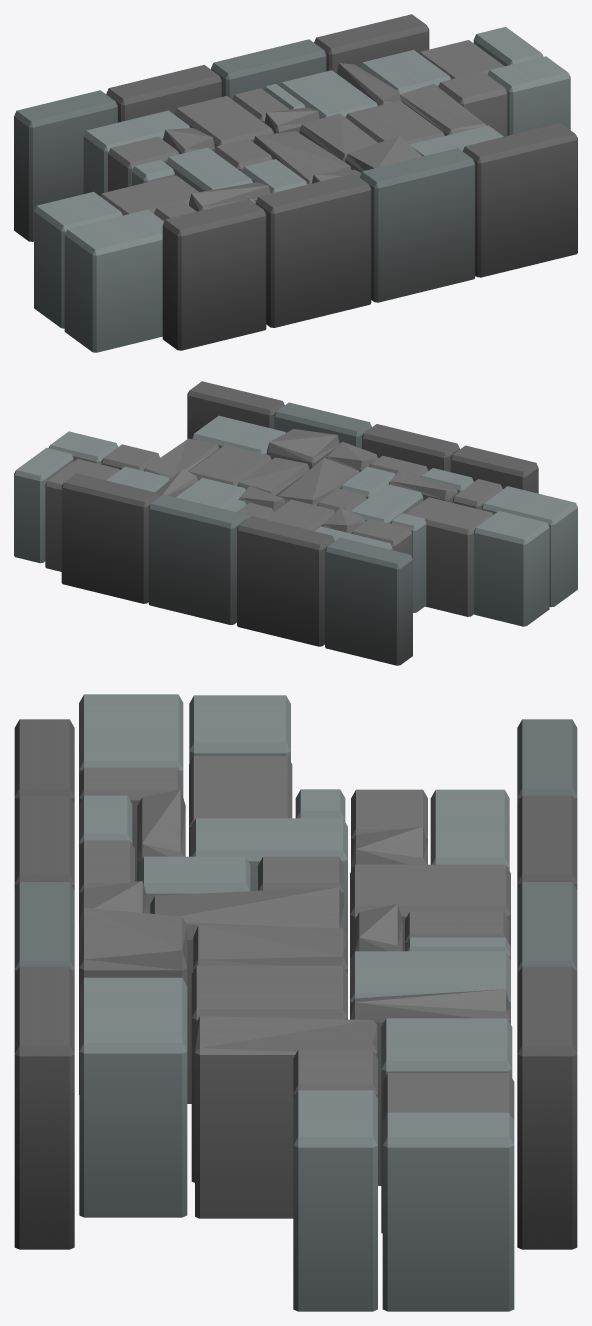
The model's file is ZLP_Road_C_4.FBX.
3 views of the same model, one above another, from view 1: azimuth 30°, elevation 25°; view 2: azimuth 150°, elevation 25°; view 3: azimuth 270°, elevation 25° (orthographic). The views are drawn at different scales.
Parts seen in each view (by area): view 1: ZLP_Road_C_4; view 2: ZLP_Road_C_4; view 3: ZLP_Road_C_4.
Part boxes in pixels (bbox=[...]): ZLP_Road_C_4: bbox=[14, 14, 577, 352]; ZLP_Road_C_4: bbox=[14, 381, 577, 665]; ZLP_Road_C_4: bbox=[14, 694, 577, 1311].
Bounding box in the file's own units: 411 × 89.52 × 219.
